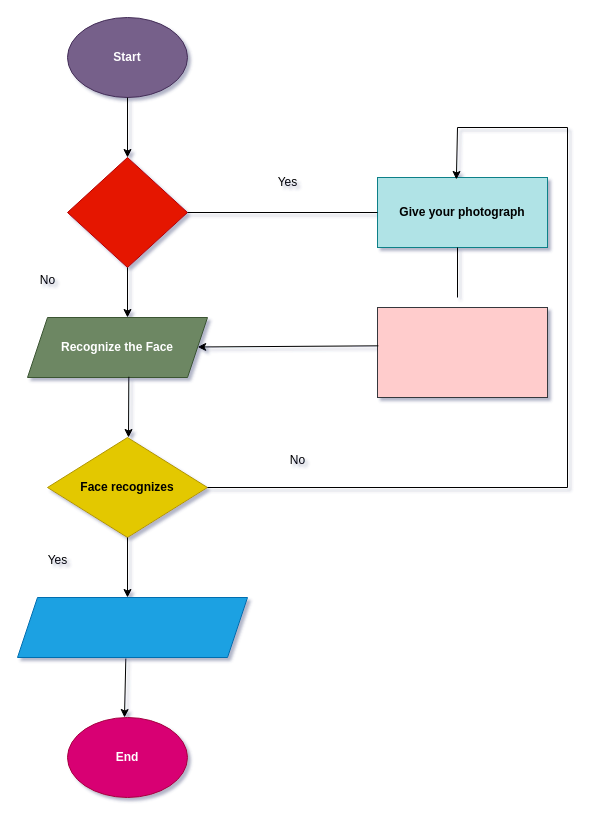
This 592x821 diagram has some shape labels left out. Each missing label, with the centre of its shape:
"New User?" belongs at (127,212).
"Store the face data in folder on your name." belongs at (462,352).
"Stored in csv file with registration number with date ,time of entry." belongs at (132,627).
